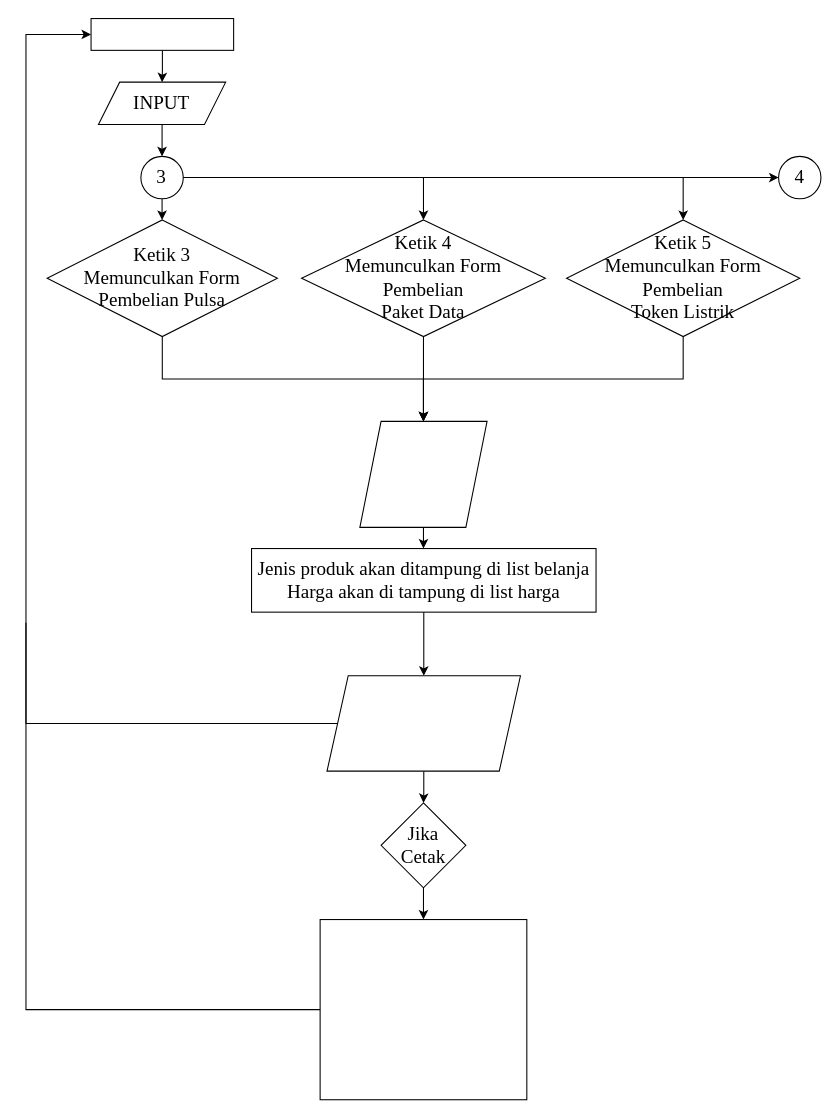
Image size: 840x1118. Some labels were removed from this diagram. Here are the shapes that lost their labels. From the top down, the box of each, then its label:
(90, 17, 234, 50): MENU UTAMA
(359, 420, 487, 527): INPUT Nama No. HP Nominal
(326, 675, 520, 771): INPUT Cetak atau Kembali ke Menu
(319, 918, 527, 1100): Cetak Data Pembelian Produk : Nama : No. Hp : Nominal : Harga :
